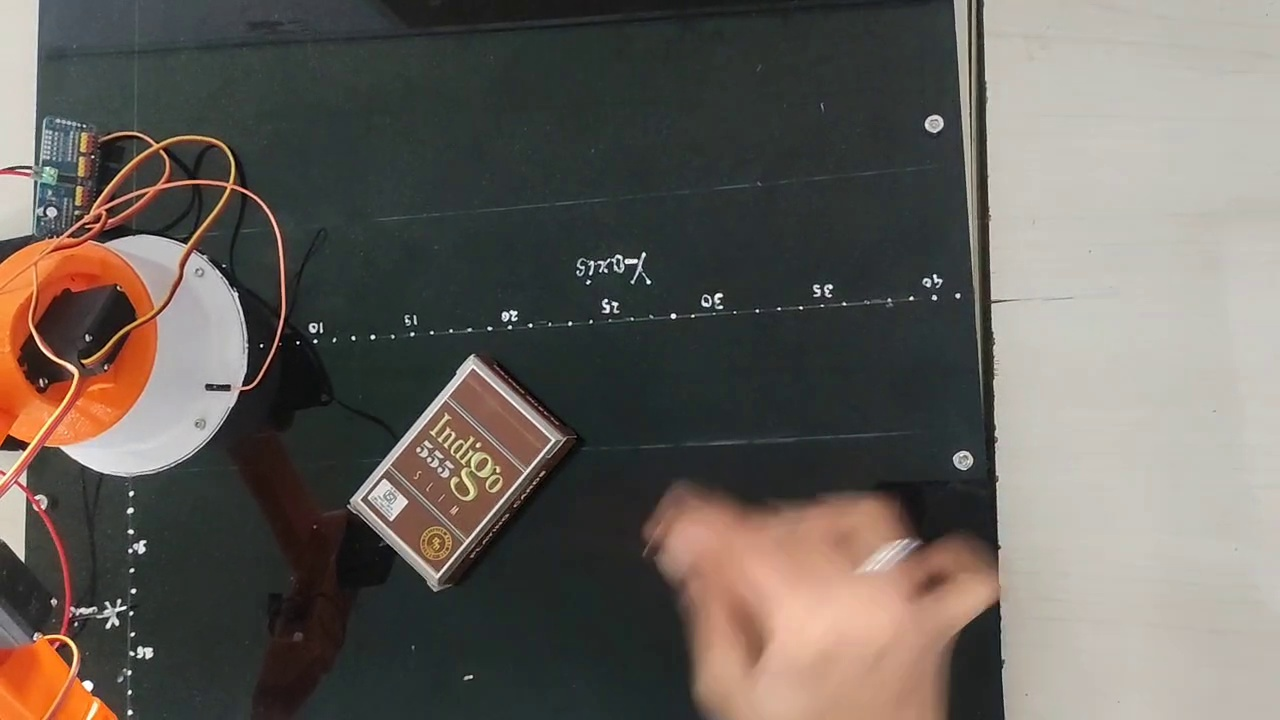BEX: (359, 364, 551, 574)
